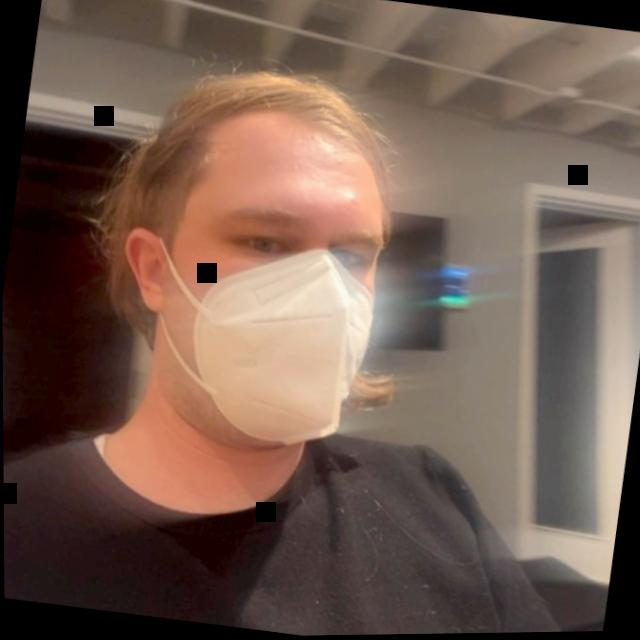Mask: (58, 13, 458, 531)
